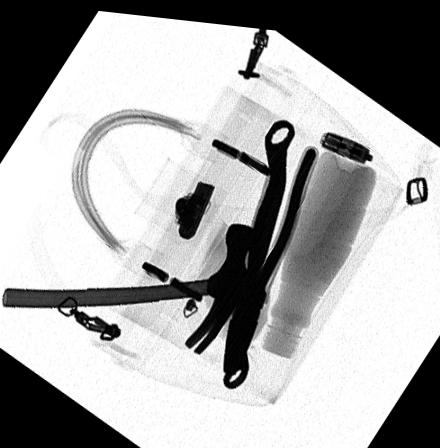Hammer: (0, 218, 253, 351)
Pliers: (220, 138, 316, 371)
Wrench: (219, 110, 293, 384)
